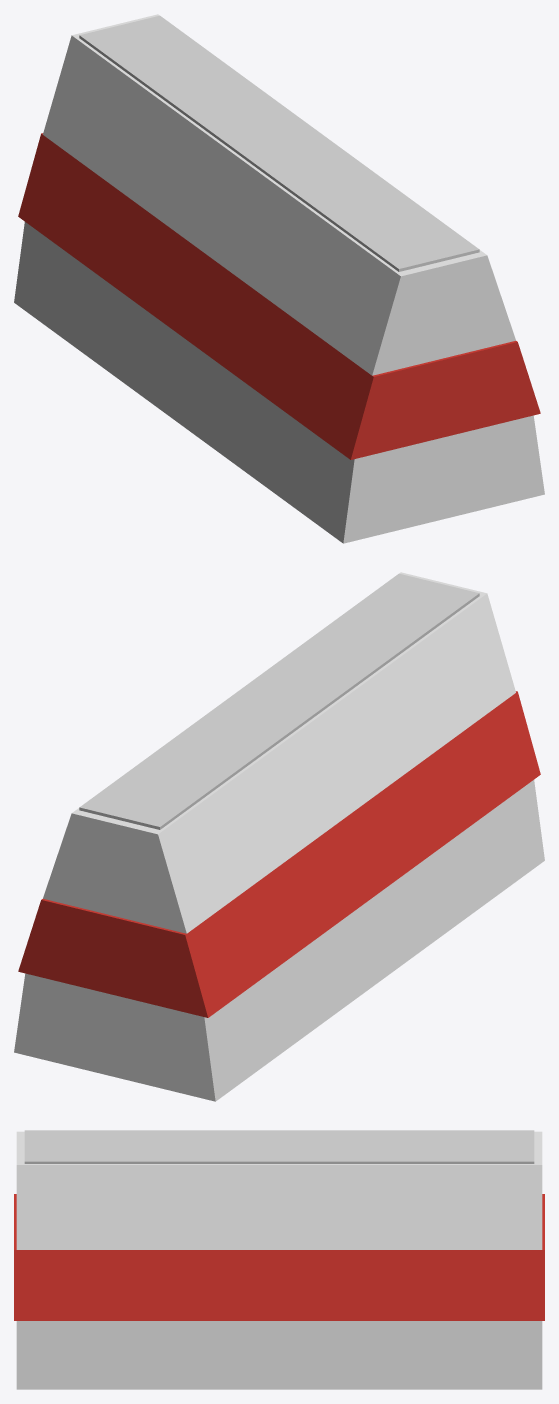
The model's file is barrier_a.glb.
3 views of the same model, one above another, from view 1: azimuth 30°, elevation 25°; view 2: azimuth 150°, elevation 25°; view 3: azimuth 270°, elevation 25° (orthographic). The views are drawn at different scales.
Parts seen in each view (by area): view 1: barrier_a; view 2: barrier_a; view 3: barrier_a.
Part boxes in pixels (x1,y1,x2,y2): barrier_a: (14, 14, 544, 543); barrier_a: (14, 572, 544, 1101); barrier_a: (14, 1130, 544, 1389).
Size of the model in its own units: 0.7 by 0.85 by 2.
Materials: 1 (1 with a texture image).
